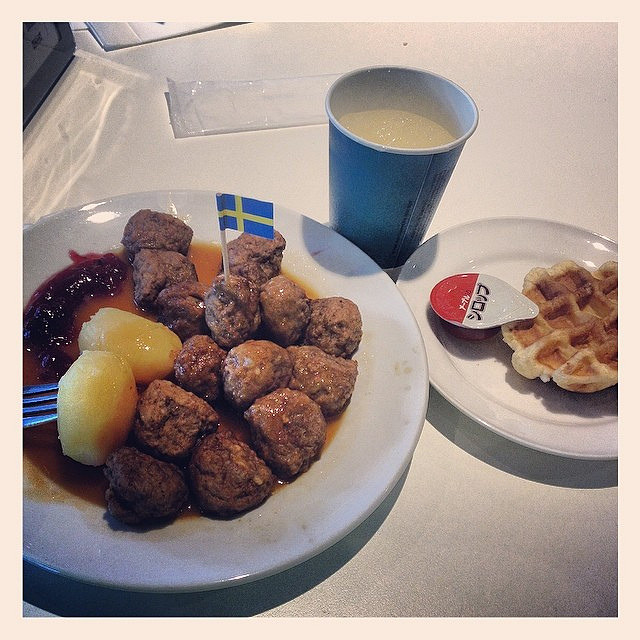boiled potatoes: (58, 347, 136, 463), (74, 307, 180, 378)
glass of milk: (320, 62, 483, 258)
meatballs: (129, 217, 364, 520)
